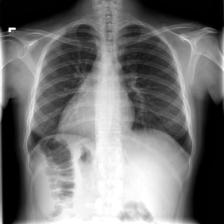normal: (23, 20, 197, 166)
